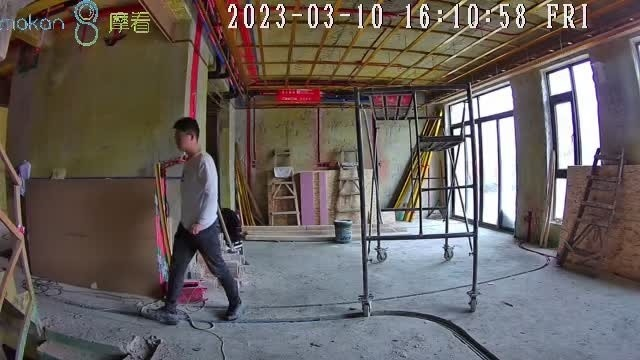people: (156, 117, 243, 322)
window: (540, 58, 603, 222), (448, 82, 514, 233)
